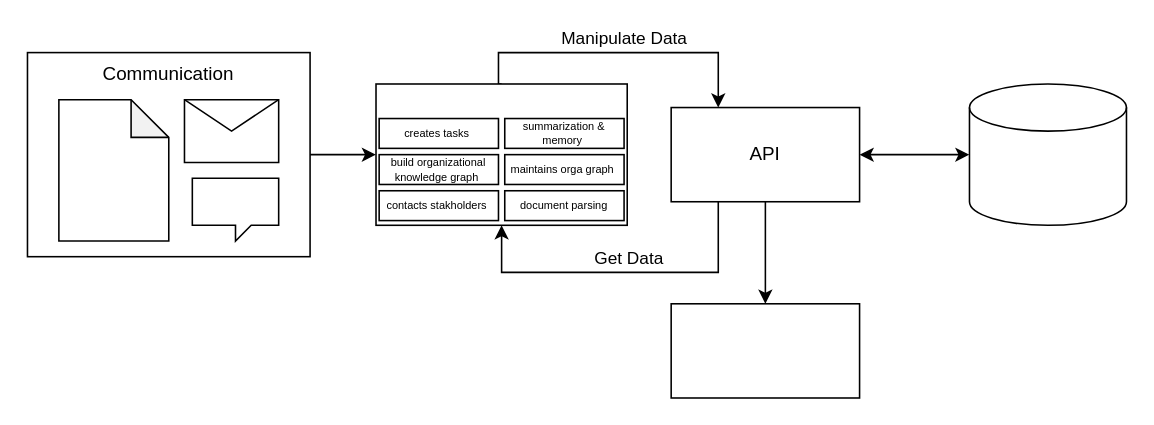
Some shapes in this 1154 by 425 pixel diagram are drawn without their labels. The shapes that lost their labels are listed below. From the top down, each one's box as (x1, y1, x2, y2) in pixels, then its label:
(374, 82, 627, 225): AI Agents
(968, 82, 1126, 225): communication employees tasks
(670, 302, 860, 398): Dashboard
